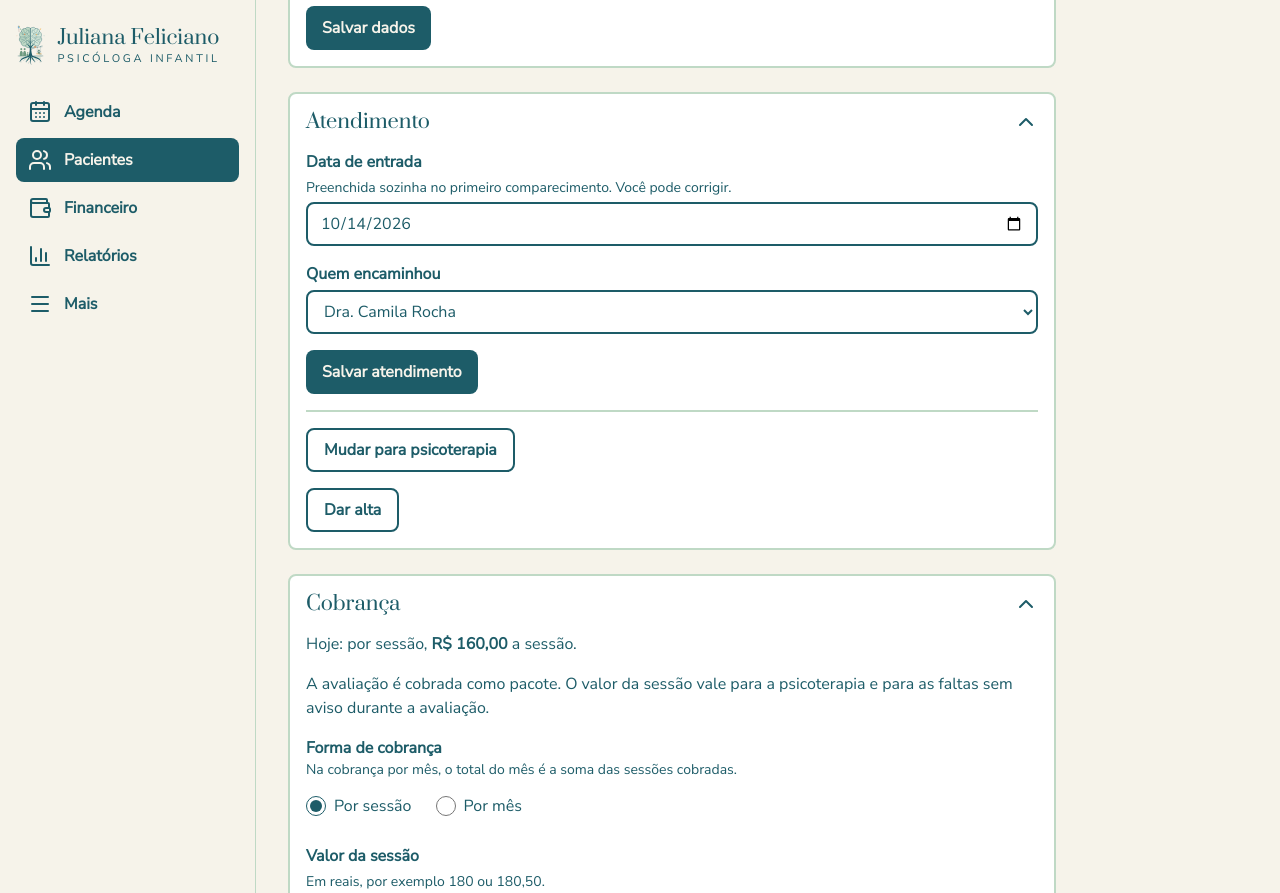
SecaoAtendimento › mudar o tipo › se a troca falhar no meio, a ficha mostra o tipo já gravado e a pergunta continua sendo a mesma (não vira "mudar de volta")
The image size is (1280, 893).
(page scrolled)
Click the button "Mudar para psicoterapia".
click(410, 450)  # box 306,428 -> 515,472
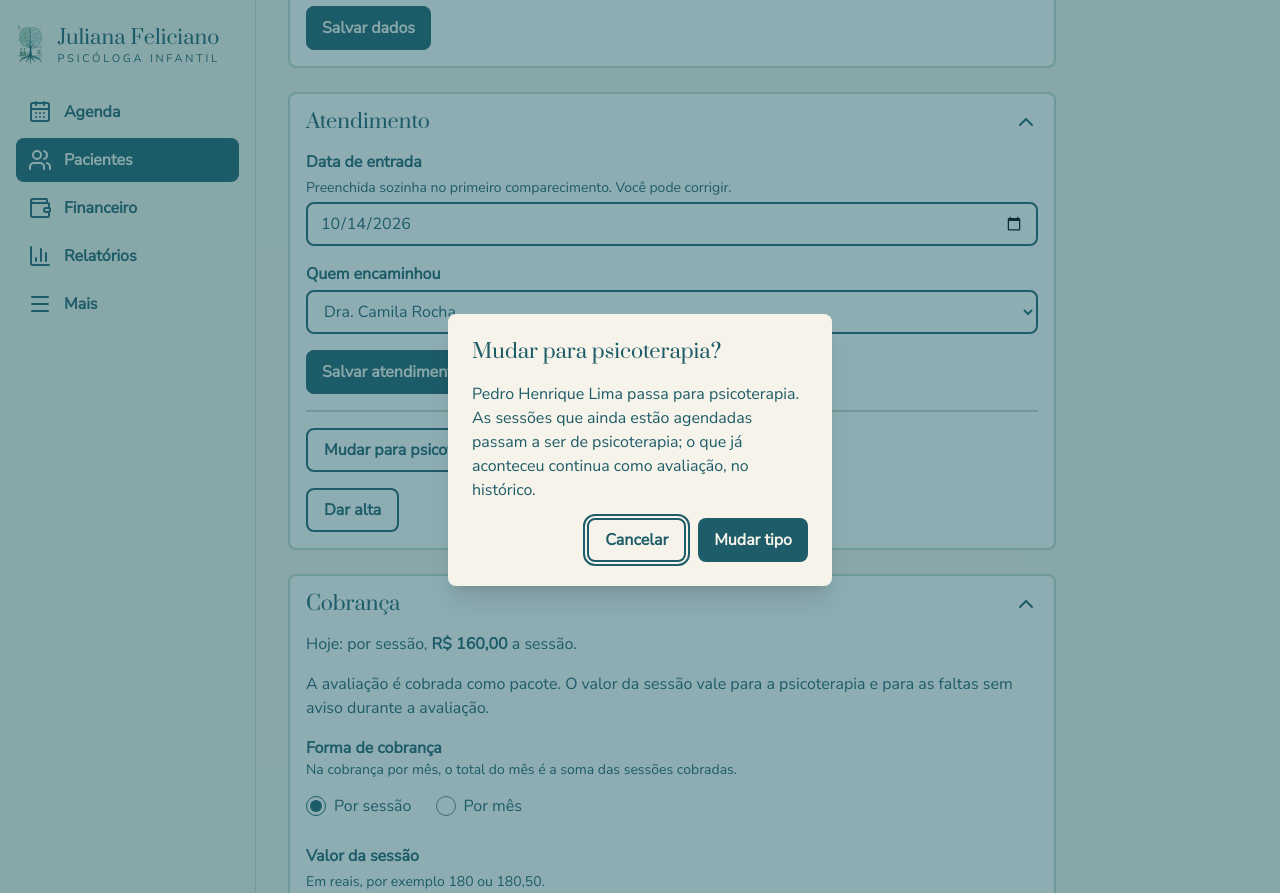
Click the button "Mudar tipo".
click(753, 540)  # box 698,518 -> 808,562
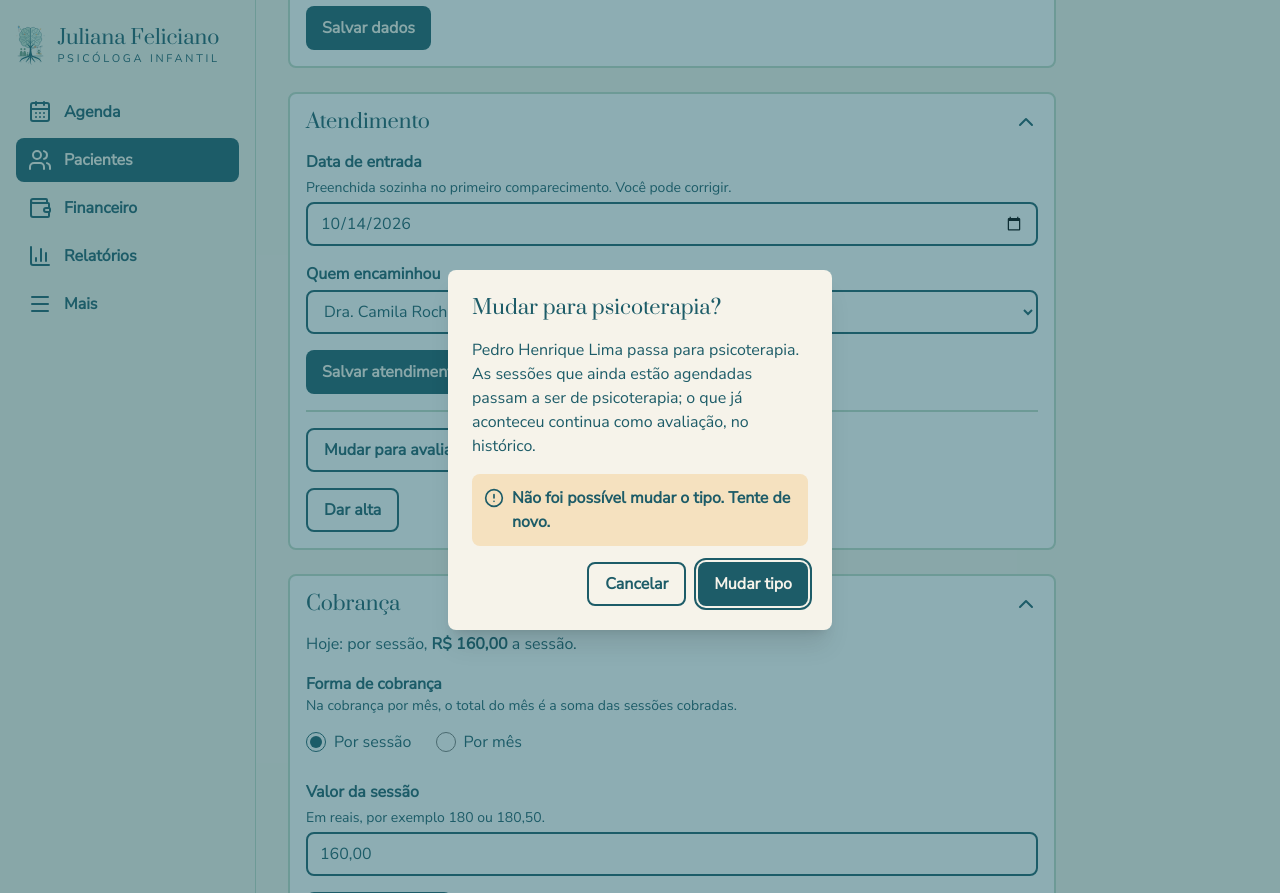
Expected: the dialog "Mudar para psicoterapia?" is shown, 448,270 -> 832,630
Expected: the message reads "Não foi possível mudar o tipo. Tente de novo.", 512,487 -> 790,533
Click the button "Mudar tipo".
click(753, 584)  # box 698,562 -> 808,606
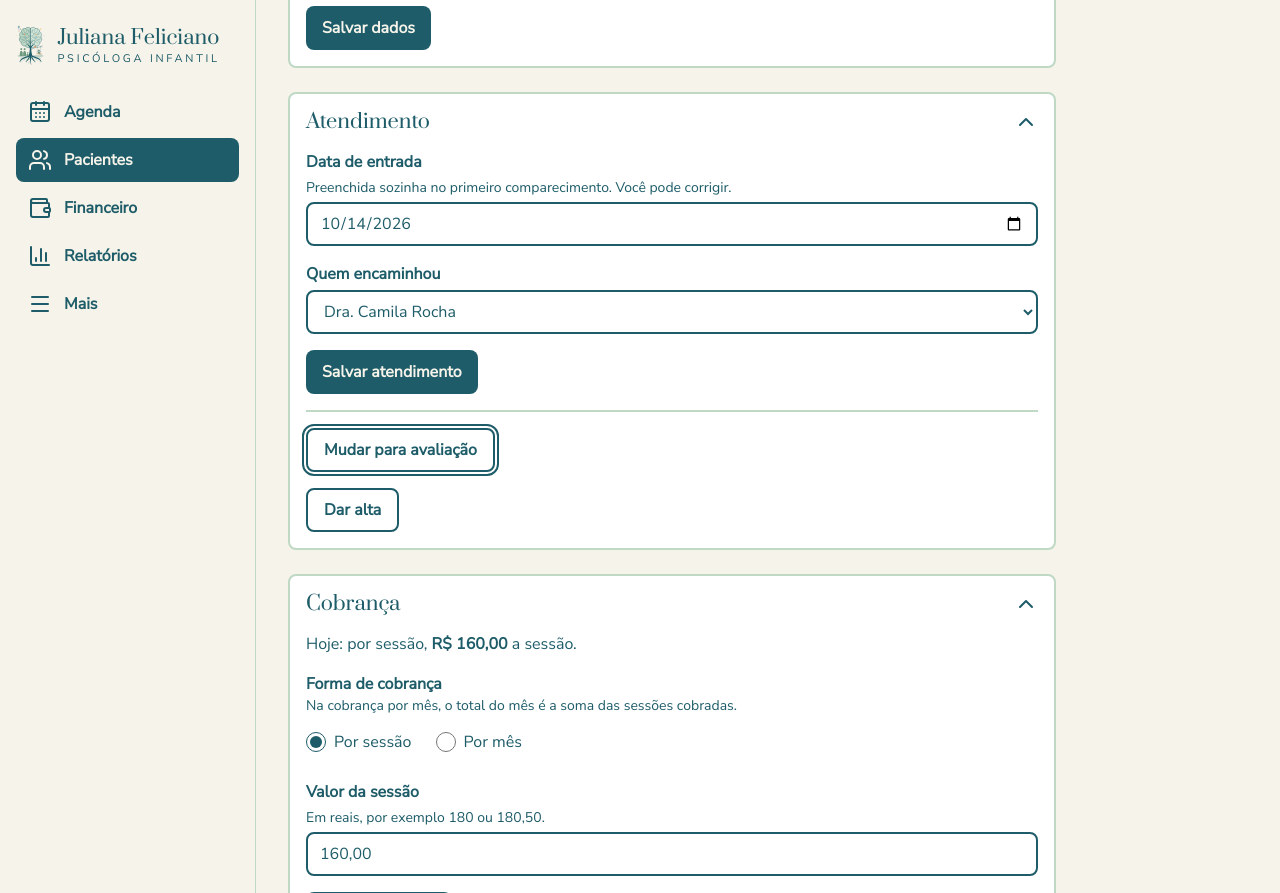
Expected: the dialog is gone
